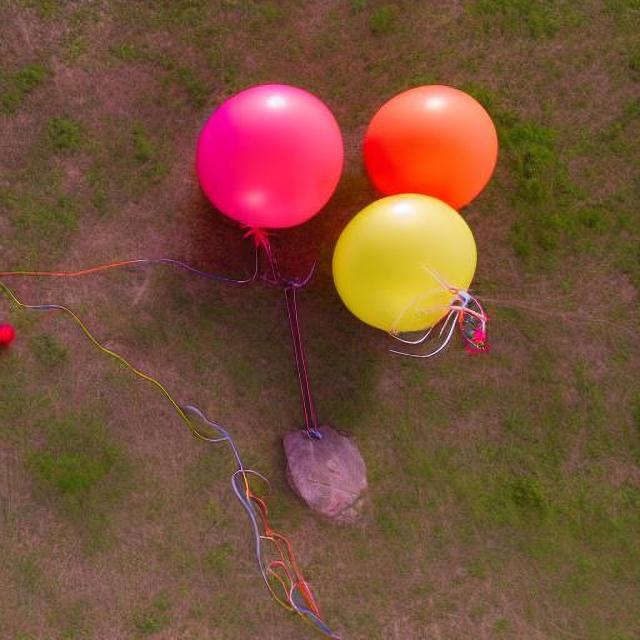balloon: (181, 77, 490, 361)
